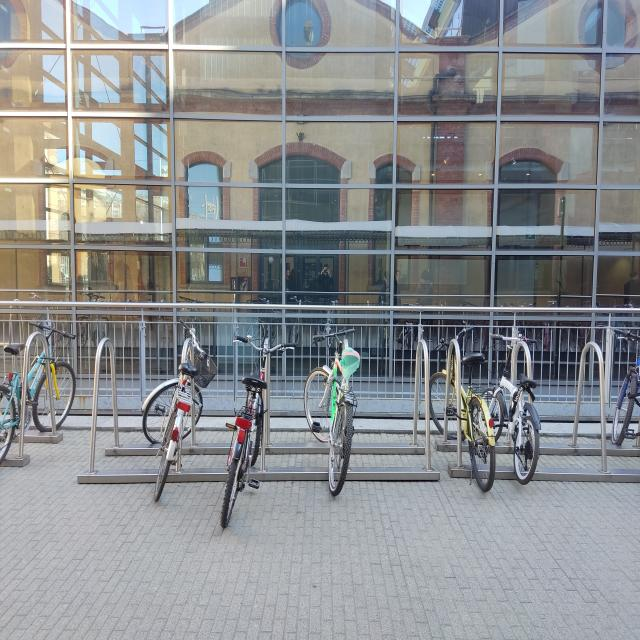Bicycle: (221, 306, 303, 534), (0, 312, 88, 486), (146, 308, 222, 506), (302, 292, 362, 493), (433, 309, 495, 500), (495, 312, 540, 474), (613, 315, 638, 471)
